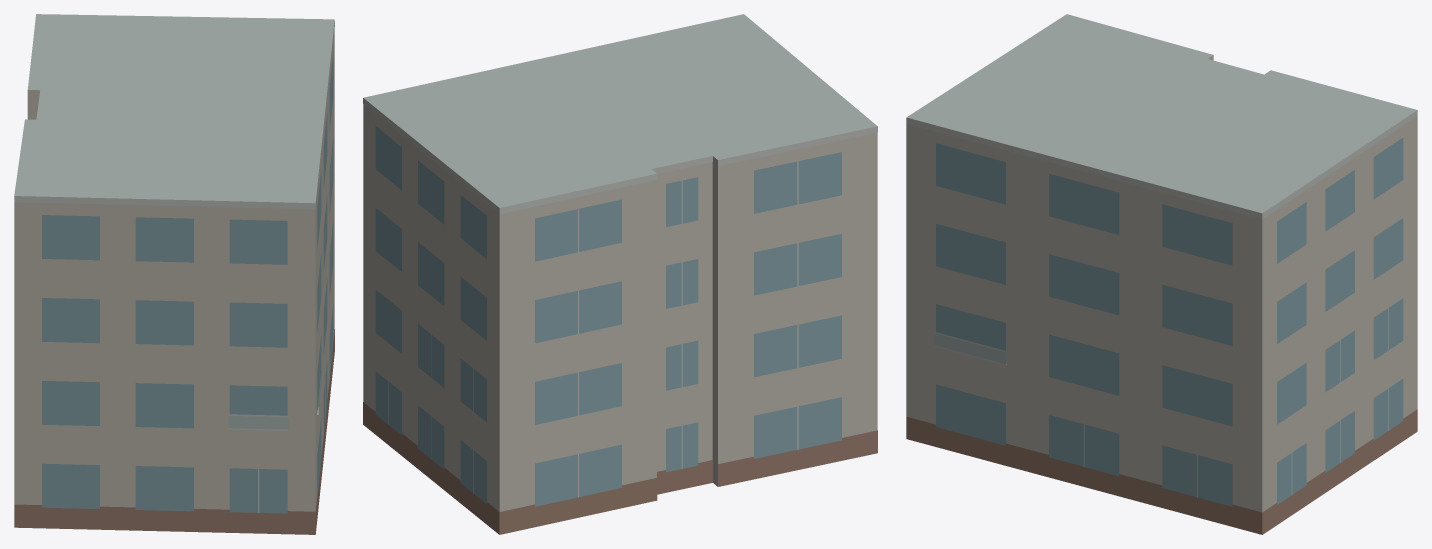
The model's file is survey-upis-32744278.glb.
3 renders of one model, left to right at view 1: azimuth 30°, elevation 25°; view 2: azimuth 150°, elevation 25°; view 3: azimuth 270°, elevation 25°, orthographic. The views are drawn at different scales.
Visible parts, largest first — view 1: survey-upis-32744278.tmp; view 2: survey-upis-32744278.tmp; view 3: survey-upis-32744278.tmp.
Boxes of the visible parts, left/top/right/bottom form: survey-upis-32744278.tmp: left=14, top=14, right=334, bottom=534; survey-upis-32744278.tmp: left=363, top=14, right=877, bottom=534; survey-upis-32744278.tmp: left=906, top=14, right=1417, bottom=534.
Bounding box in the file's own units: 17.16 × 12.9 × 18.6.
